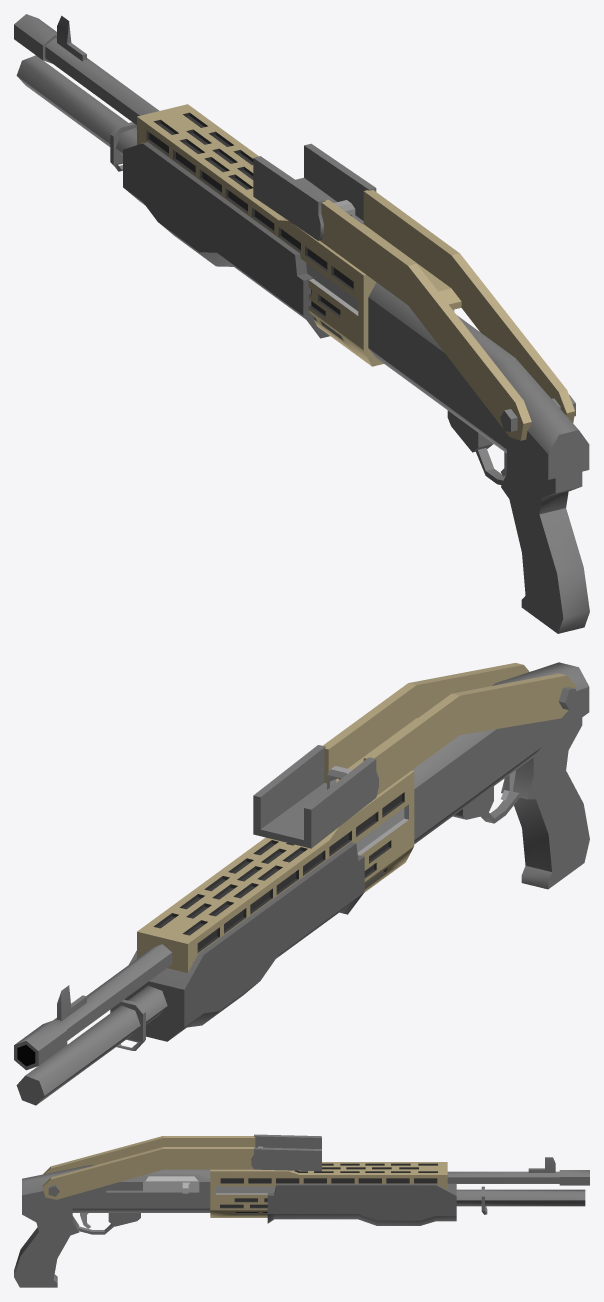
File: spas12_display.glb
3 renders of one model, top to bottom at view 1: azimuth 30°, elevation 25°; view 2: azimuth 150°, elevation 25°; view 3: azimuth 270°, elevation 25°, orthographic. The views are drawn at different scales.
Visible parts, largest first — view 1: Cube, Cube.004, Cube.001; view 2: Cube, Cube.004, Cube.001; view 3: Cube, Cube.004, Cube.001, Cube.002.
Boxes of the visible parts, <box> form: Cube: <box>14,14,589,633</box>; Cube.004: <box>253,143,574,440</box>; Cube.001: <box>123,142,329,338</box>; Cube: <box>14,662,589,1105</box>; Cube.004: <box>253,663,574,848</box>; Cube.001: <box>124,842,364,1041</box>; Cube: <box>14,1146,589,1287</box>; Cube.004: <box>42,1134,321,1199</box>; Cube.001: <box>267,1184,456,1225</box>; Cube.002: <box>143,1176,199,1193</box>.
Size of the model in its own units: 0.7464 by 2.71 by 9.96.
